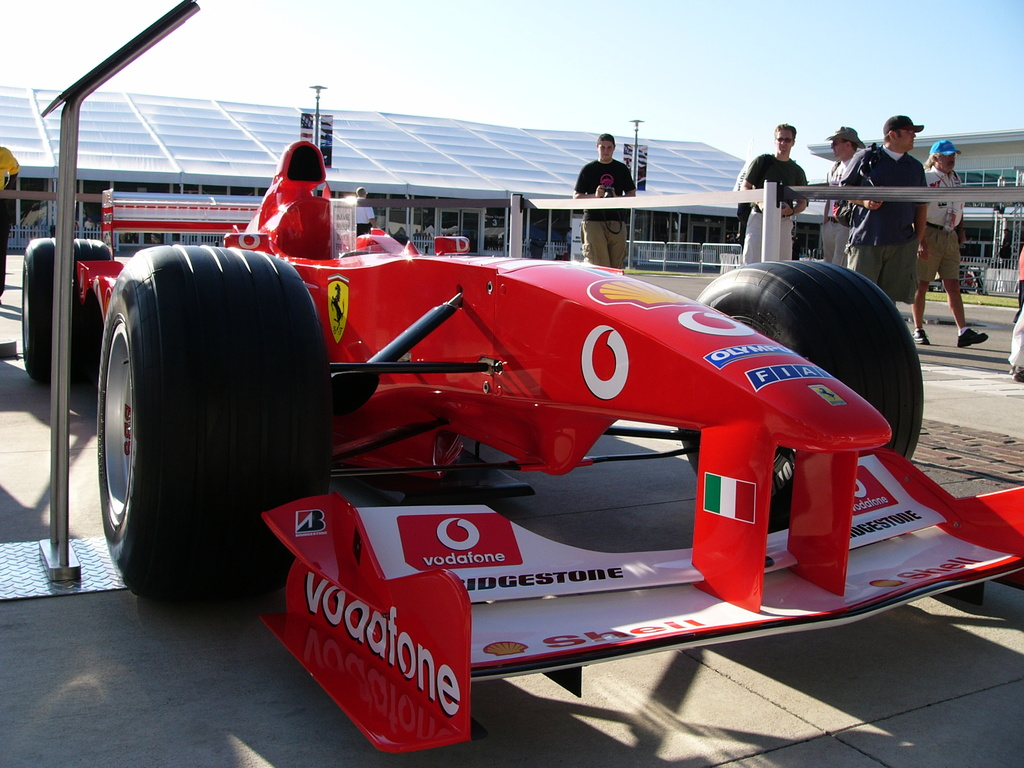Car: (8, 189, 1023, 748)
